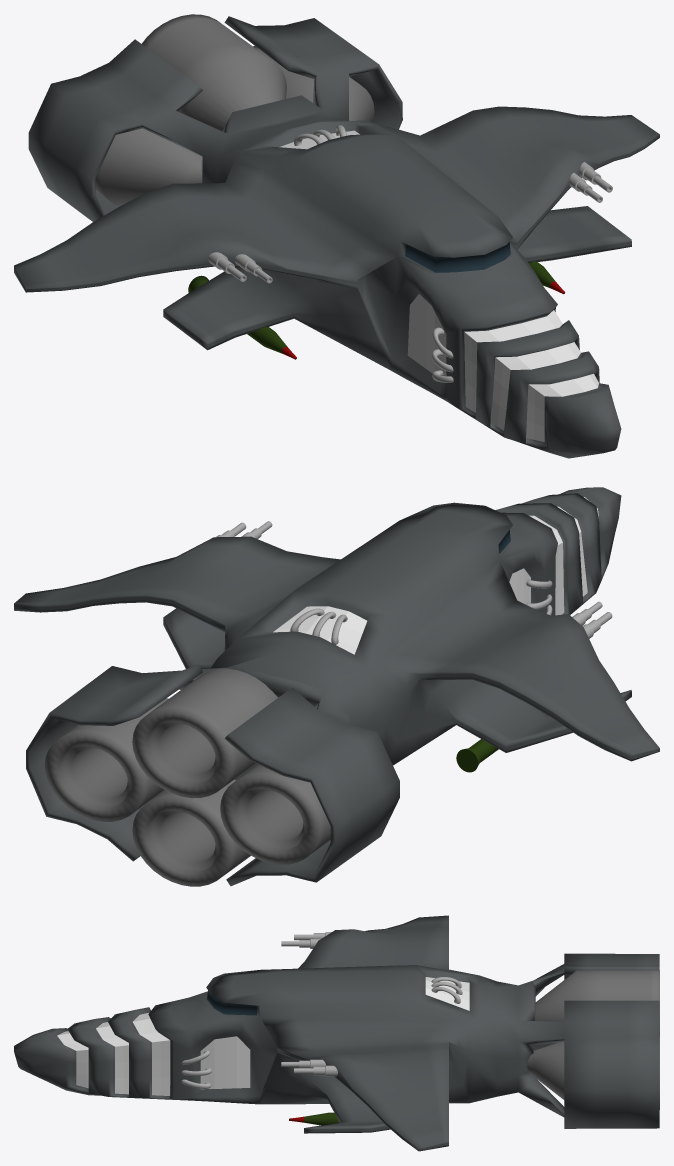
File: Ship.fbx
3 views of the same model, one above another, from view 1: azimuth 30°, elevation 25°; view 2: azimuth 150°, elevation 25°; view 3: azimuth 270°, elevation 25° (orthographic). The views are drawn at different scales.
Parts seen in each view (by area): view 1: Cube; view 2: Cube; view 3: Cube.
Part boxes in pixels (box(x1,y1,x2,y2)): Cube: box(14, 14, 659, 458); Cube: box(14, 487, 659, 886); Cube: box(14, 915, 659, 1151).
Size of the model in its own units: 489 by 128 by 577.
